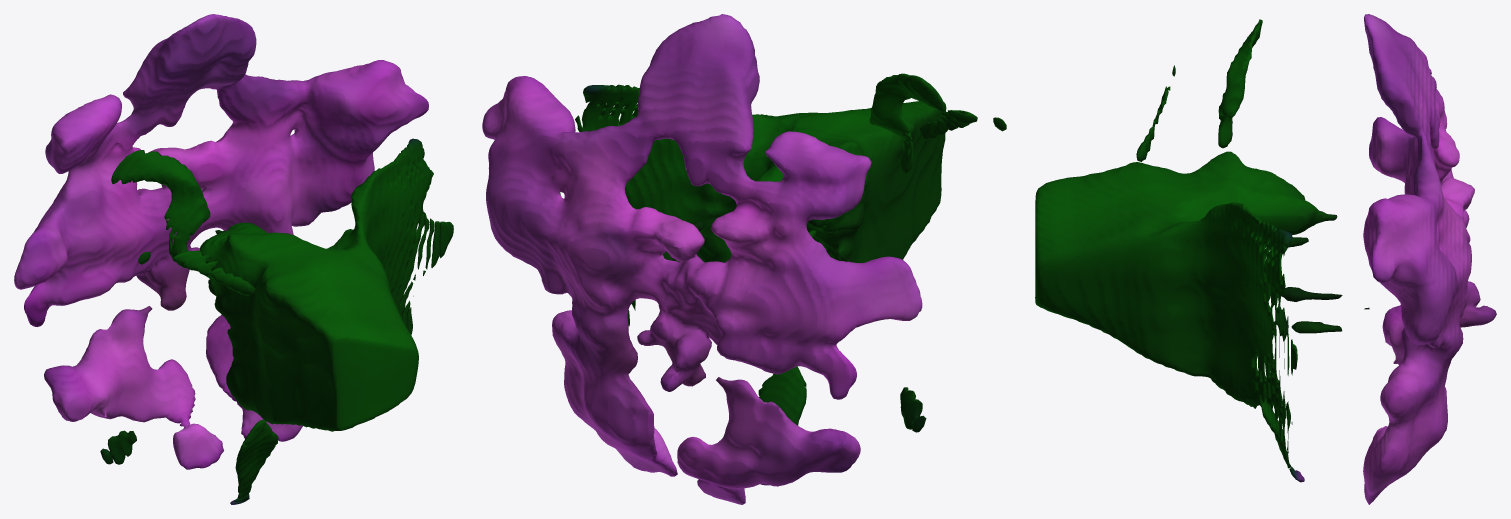
3 views of the same model, side by side, from view 1: azimuth 30°, elevation 25°; view 2: azimuth 150°, elevation 25°; view 3: azimuth 270°, elevation 25° (orthographic). The views are drawn at different scales.
Visible parts, largest first — view 1: plyFile; view 2: plyFile; view 3: plyFile.
Boxes of the visible parts, bbox=[...] form: plyFile: bbox=[14, 14, 453, 504]; plyFile: bbox=[482, 14, 1006, 504]; plyFile: bbox=[1035, 14, 1496, 504].
Bounding box in the file's own units: 183 × 196 × 176.
